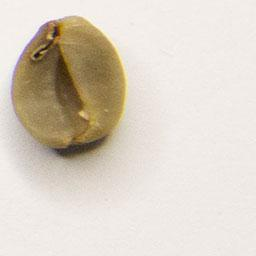premium: (7, 12, 129, 154)
